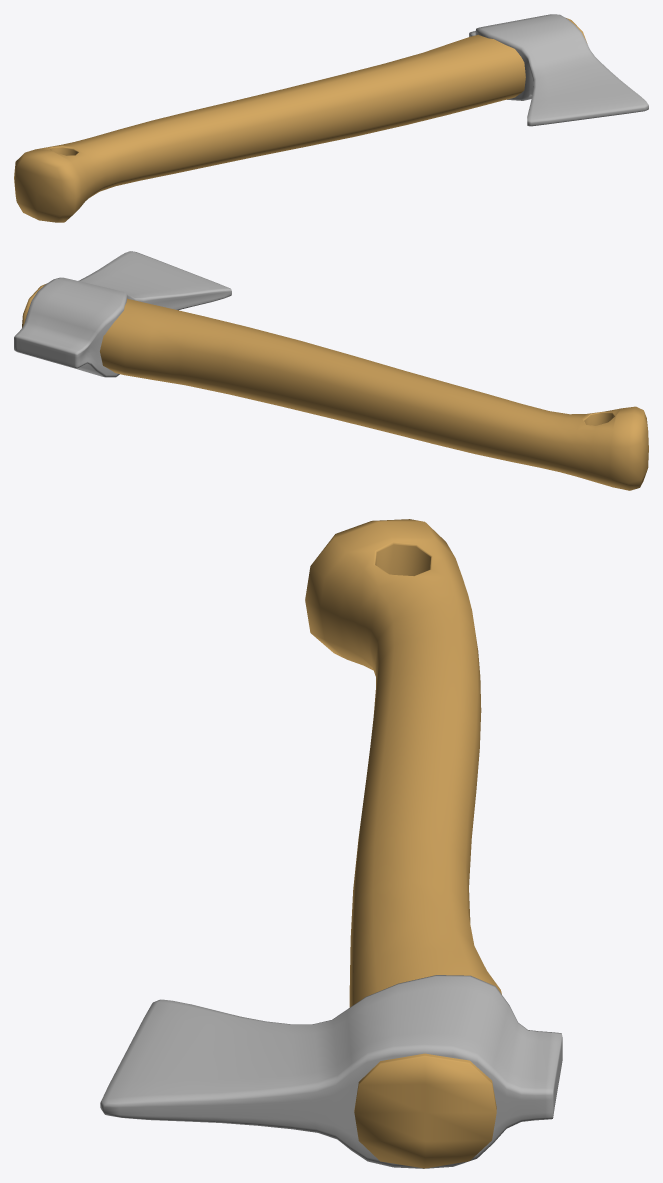
File: Kapak.fbx
3 renders of one model, top to bottom at view 1: azimuth 30°, elevation 25°; view 2: azimuth 150°, elevation 25°; view 3: azimuth 270°, elevation 25°, orthographic. The views are drawn at different scales.
Parts seen in each view (by area): view 1: kapak.002; view 2: kapak.002; view 3: kapak.002.
Boxes of the visible parts, x1=… form: kapak.002: x1=14, y1=14, x2=648, y2=222; kapak.002: x1=14, y1=251, x2=648, y2=490; kapak.002: x1=100, y1=519, x2=562, y2=1168.
Bounding box in the file's own units: 50.68 × 5.72 × 18.2.
